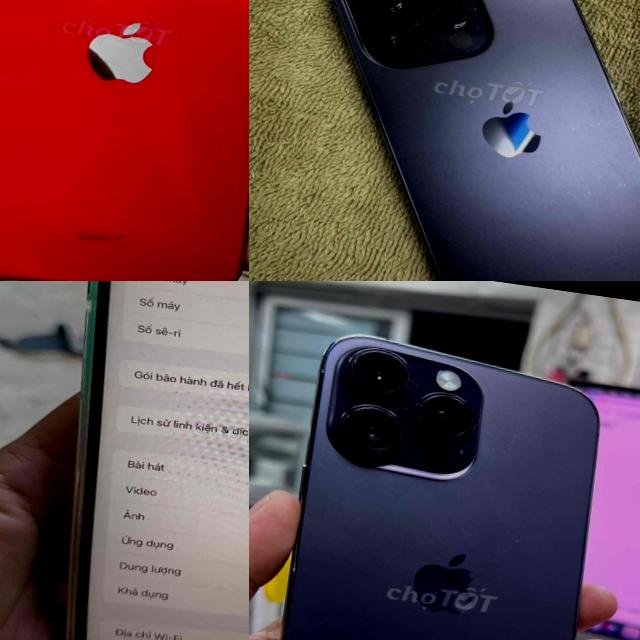scratch: (349, 358, 442, 443), (510, 534, 524, 550)
screen_defect: (150, 362, 249, 521)
